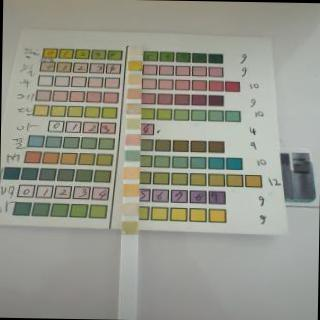mark: (122, 220, 136, 234), (123, 202, 138, 215), (126, 149, 140, 161), (124, 166, 138, 178), (124, 184, 138, 196), (127, 117, 140, 129), (126, 134, 139, 146), (126, 87, 140, 98), (128, 102, 140, 114), (129, 45, 141, 56), (128, 74, 140, 85), (128, 60, 141, 70)
